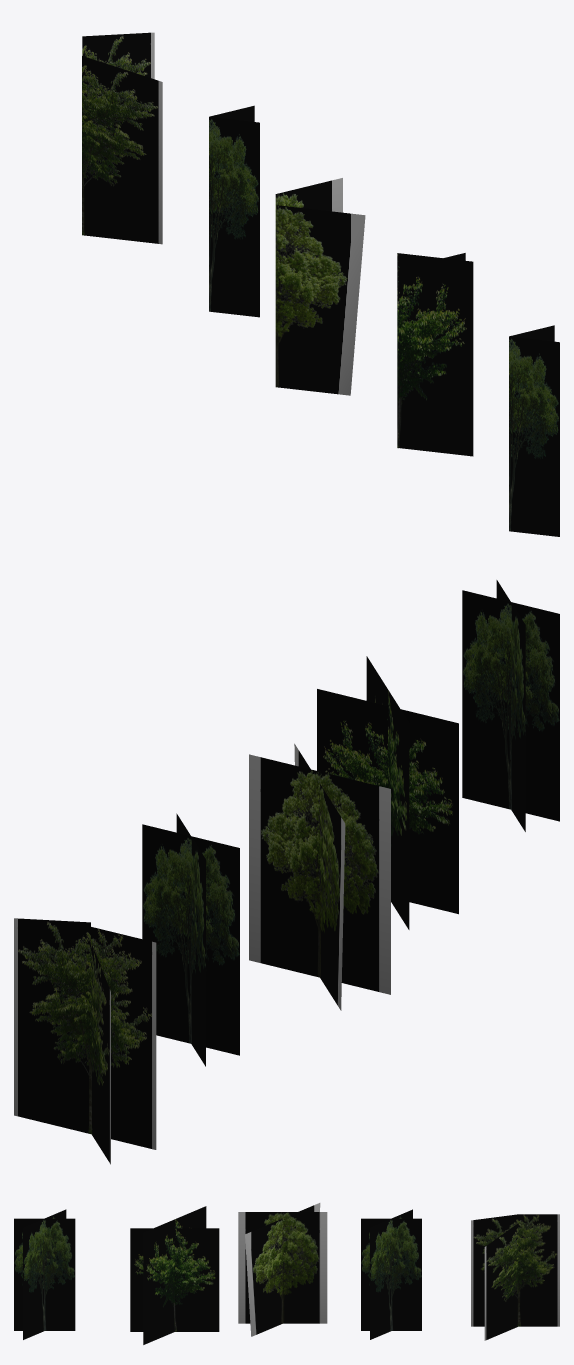
The model's file is AMB_TREE00.glb.
3 renders of one model, top to bottom at view 1: azimuth 30°, elevation 25°; view 2: azimuth 150°, elevation 25°; view 3: azimuth 270°, elevation 25°, orthographic. The views are drawn at different scales.
Parts seen in each view (by area): view 1: obj2, obj4, obj3, T1006_b, obj59; view 2: obj2, obj4, obj59, obj3, T1006_b; view 3: obj2, obj3, obj4, obj59, T1006_b.
Part boxes in pixels (x1,y1,x2,y2): obj2: [275, 178, 365, 395]; obj4: [82, 32, 162, 244]; obj3: [397, 253, 473, 456]; T1006_b: [209, 105, 259, 317]; obj59: [509, 325, 559, 536]; obj2: [249, 743, 390, 1010]; obj4: [14, 918, 156, 1164]; obj59: [462, 580, 559, 831]; obj3: [317, 656, 458, 929]; T1006_b: [142, 813, 239, 1066]; obj2: [238, 1203, 327, 1336]; obj3: [130, 1206, 219, 1344]; obj4: [471, 1214, 559, 1340]; obj59: [14, 1209, 75, 1339]; T1006_b: [361, 1209, 421, 1339].
Size of the model in its own units: 17.87 by 20.86 by 89.8.
5 materials, 5 textured.
